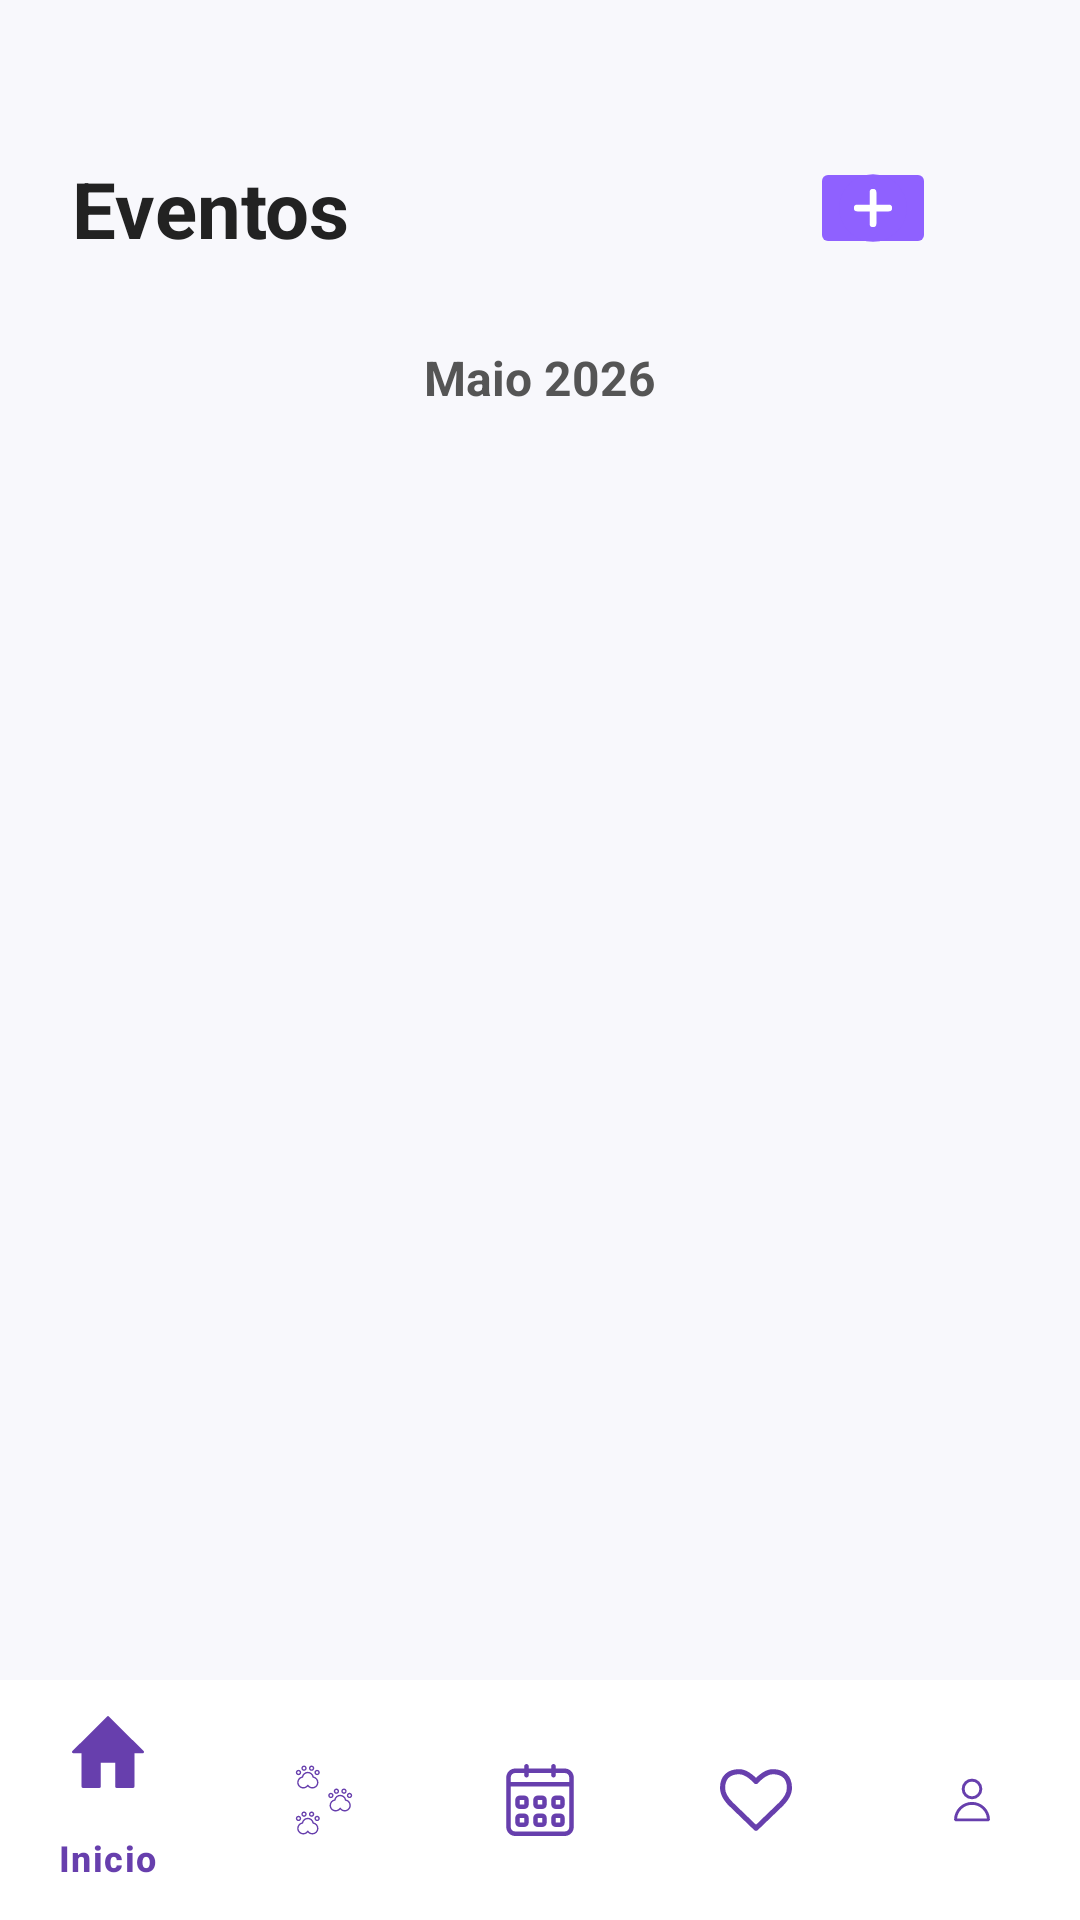

Locate icon controls on the screen. Image size 1080px x 1920px, boxes as [x1, y1, x2, y2].
mas: [822, 174, 924, 242]
